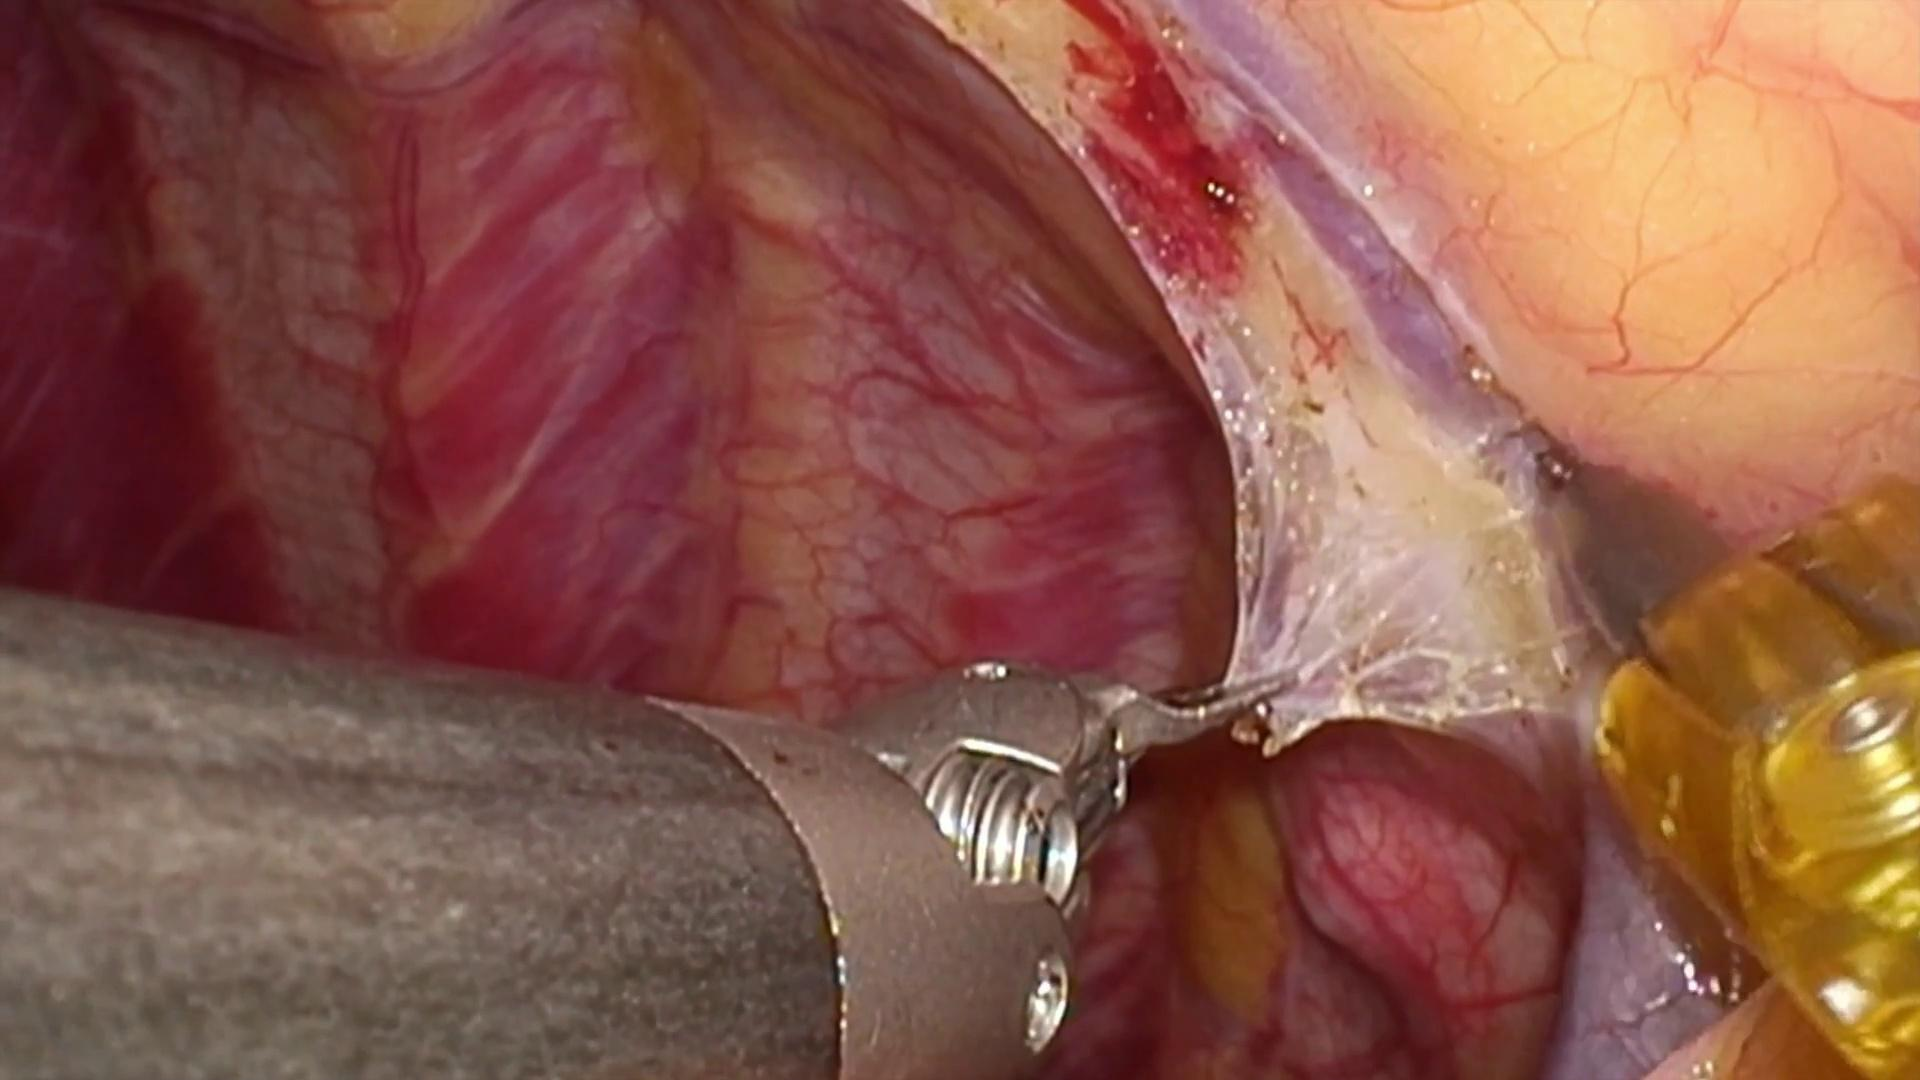Cautery_Spatula: (1505, 418, 1739, 642)
Debakey: (1072, 654, 1299, 814)
